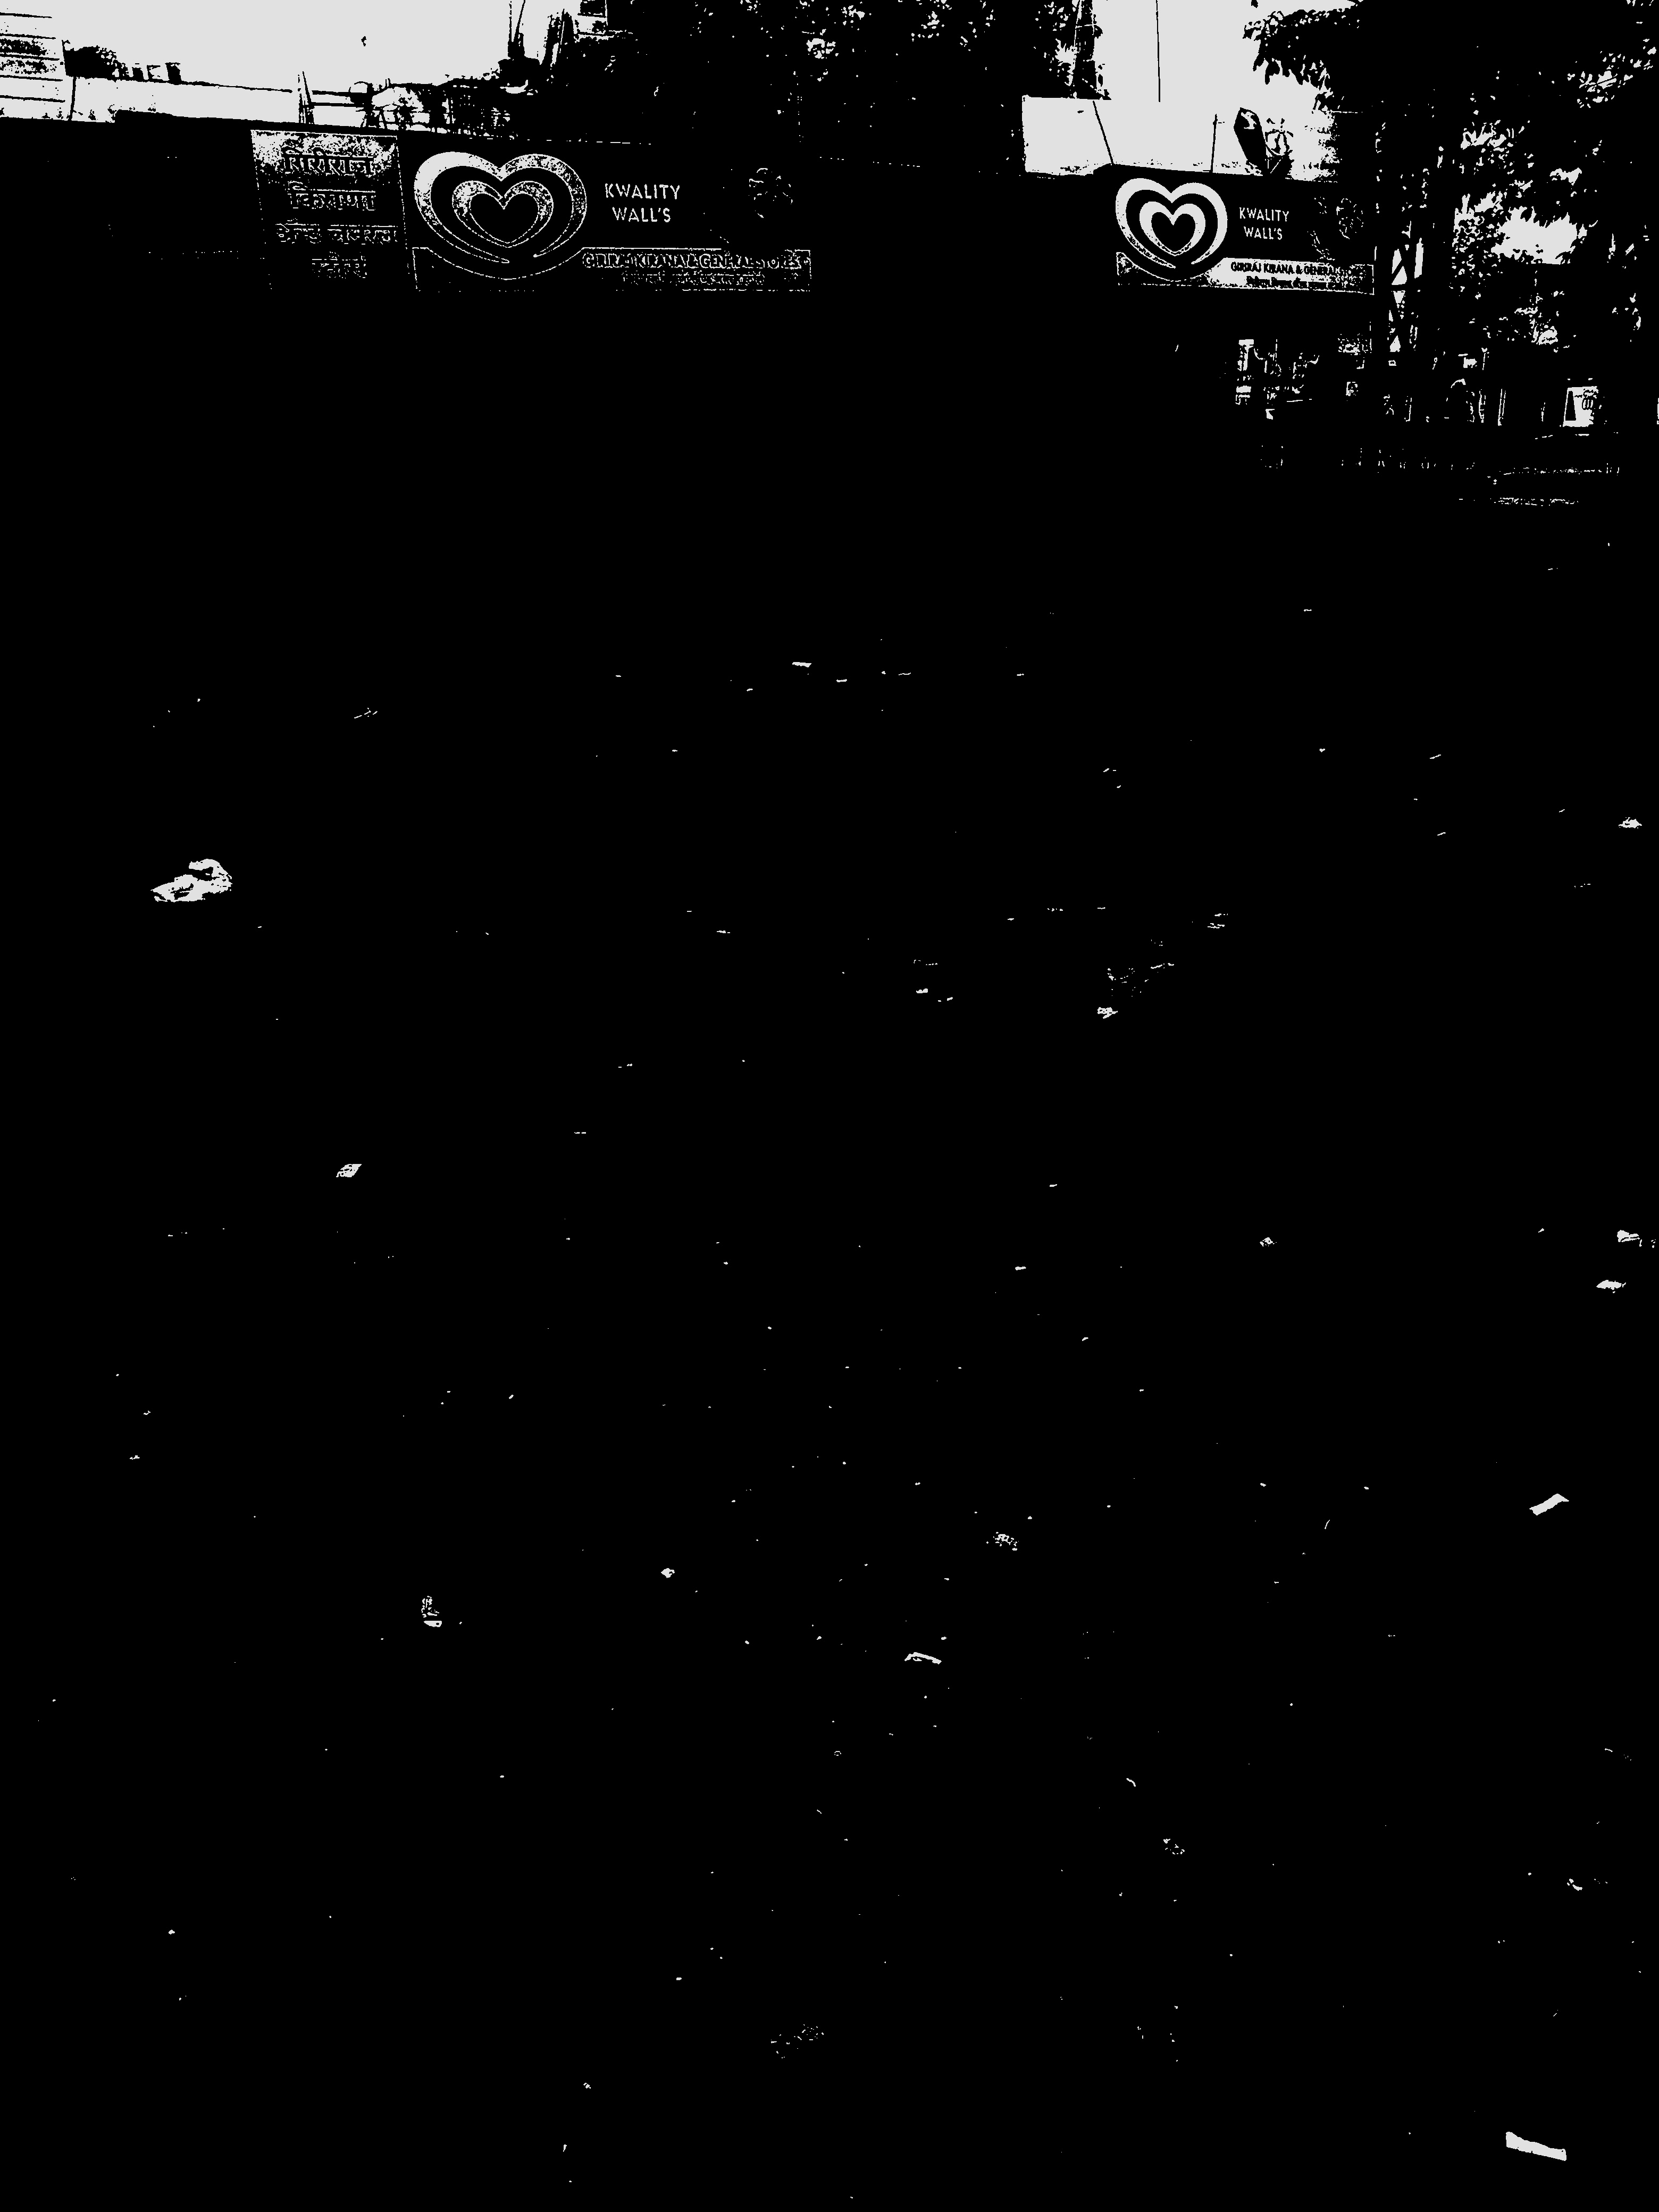text: (0, 125, 803, 296), (951, 300, 1188, 575), (1105, 167, 1384, 296), (814, 171, 1094, 296), (842, 305, 951, 486)
